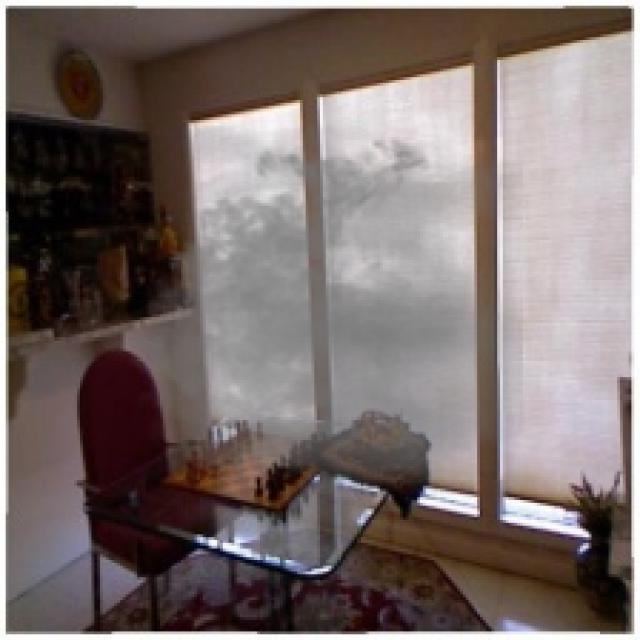Smoke: (120, 126, 523, 494)
